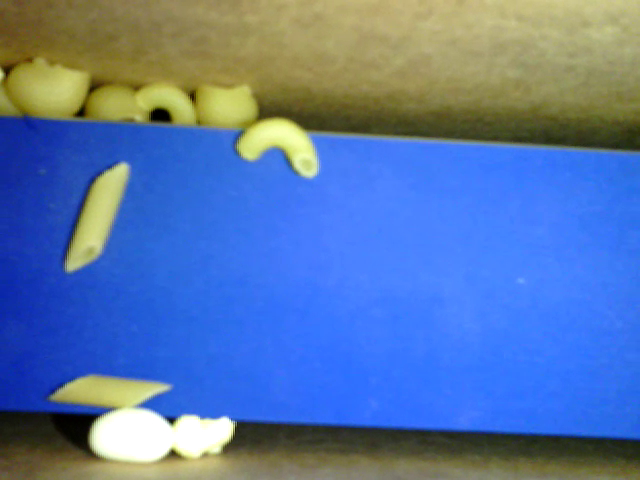elbow: (236, 114, 318, 176), (137, 78, 197, 125)
penne: (63, 159, 130, 274), (44, 369, 172, 407)
shell: (6, 57, 92, 118), (196, 80, 258, 127), (85, 83, 154, 125)
